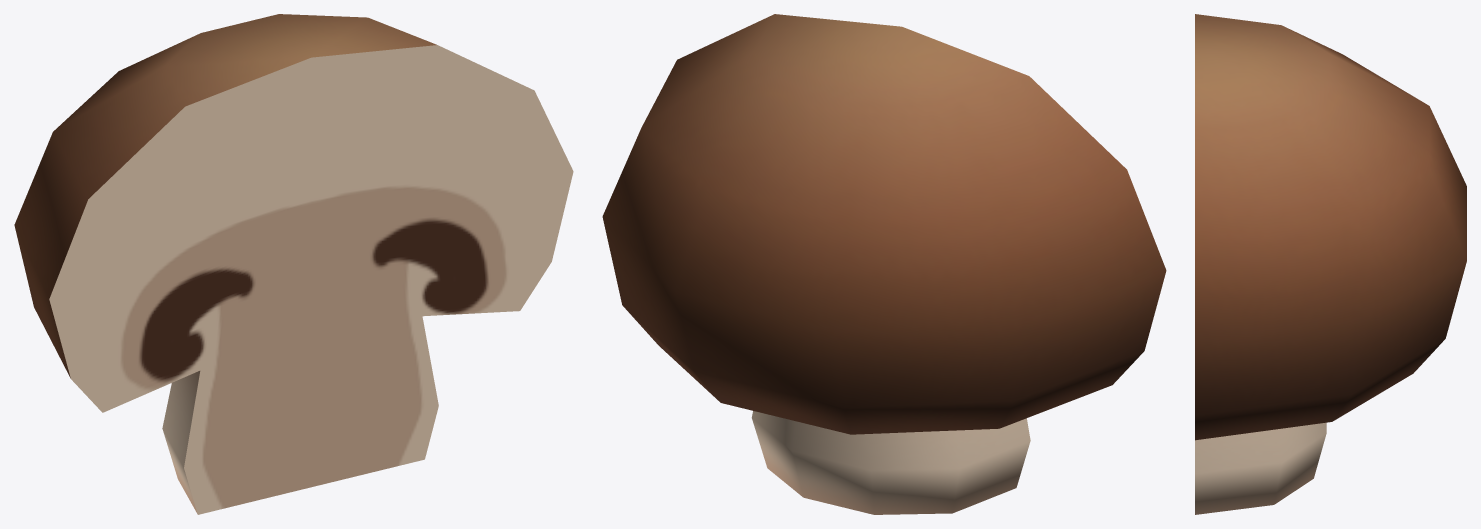
File: Mushroom_Brown_Half.fbx
The picture shows the model from 3 angles, left to right: view 1: azimuth 30°, elevation 25°; view 2: azimuth 150°, elevation 25°; view 3: azimuth 270°, elevation 25°; orthographic projection. The views are drawn at different scales.
Parts seen in each view (by area): view 1: Mushroom_Brown_Half; view 2: Mushroom_Brown_Half; view 3: Mushroom_Brown_Half.
Boxes of the visible parts, bbox=[...] form: Mushroom_Brown_Half: bbox=[14, 14, 573, 514]; Mushroom_Brown_Half: bbox=[602, 14, 1166, 514]; Mushroom_Brown_Half: bbox=[1195, 14, 1466, 514].
Size of the model in its own units: 34.81 by 27.26 by 16.49.
